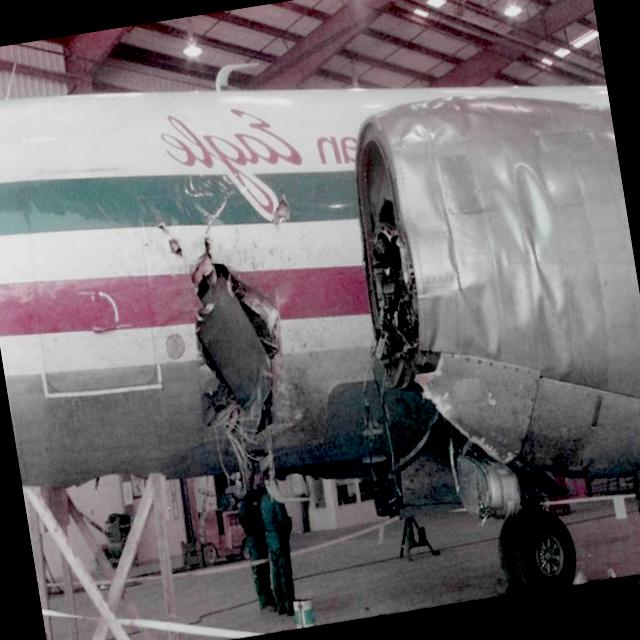dent: (390, 132, 586, 399)
